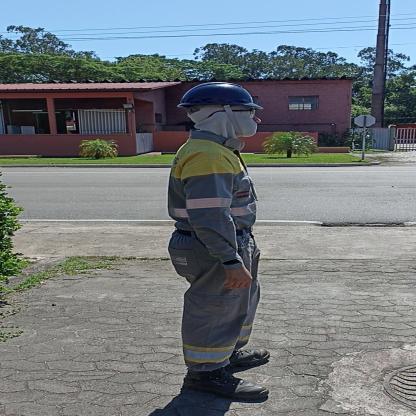Balaclava: (186, 105, 262, 139)
Capacete: (182, 80, 257, 108)
